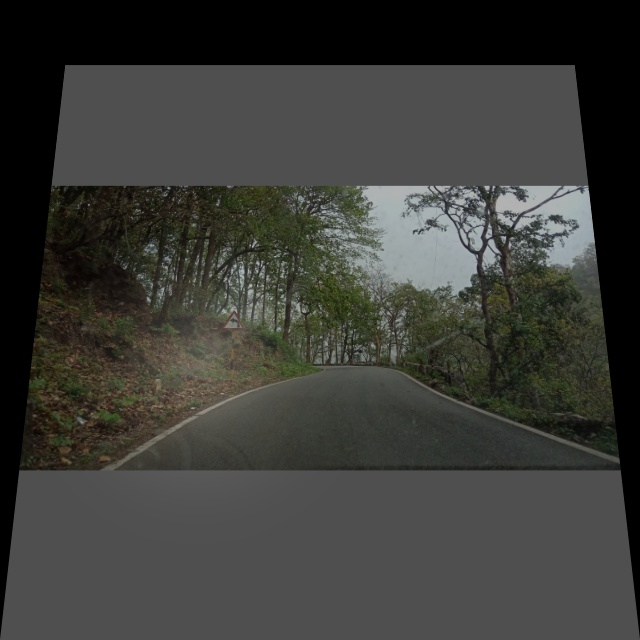Left_Hand_Curve: (221, 307, 244, 335)
